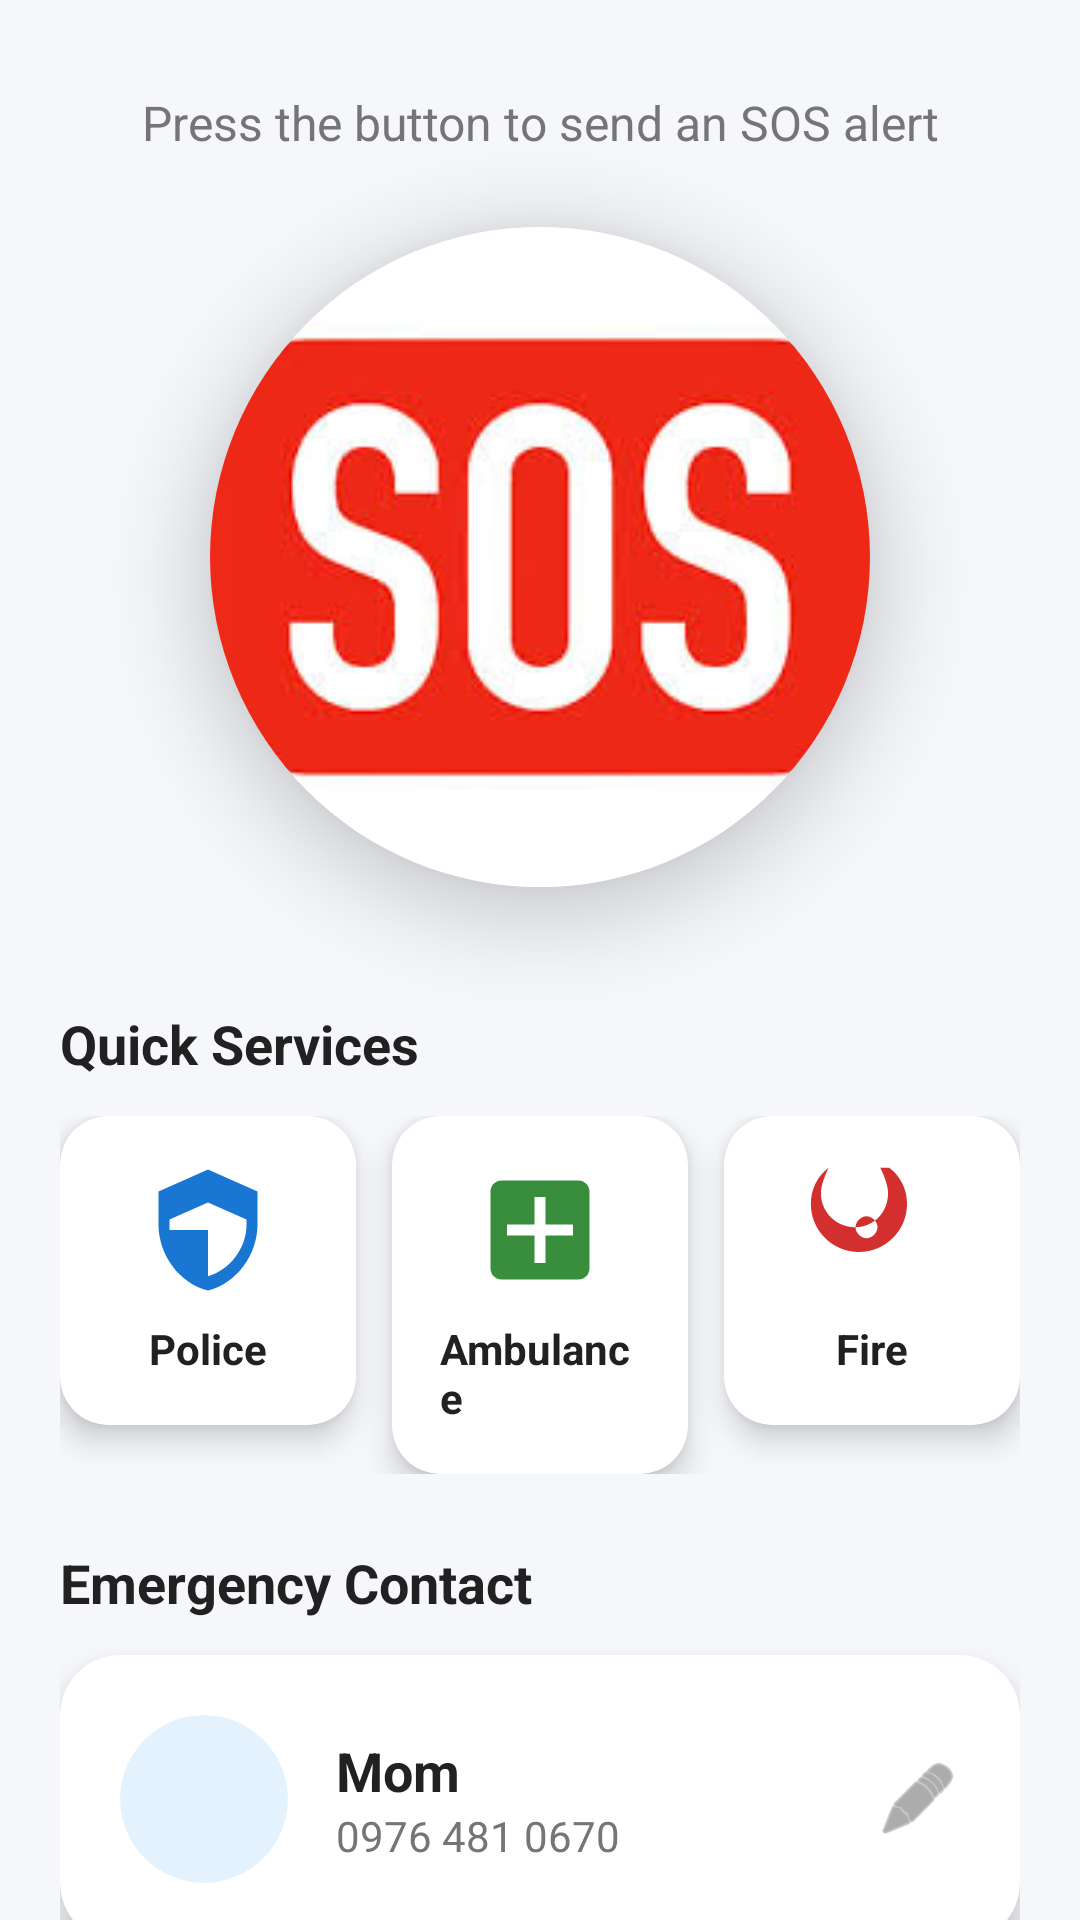

Locate icon controls on the screen. Image size 1080px×1920px, boxes as (x1, y1, x2, y2).
edit: (882, 1763, 953, 1834)
medical modern: (490, 1180, 590, 1280)
